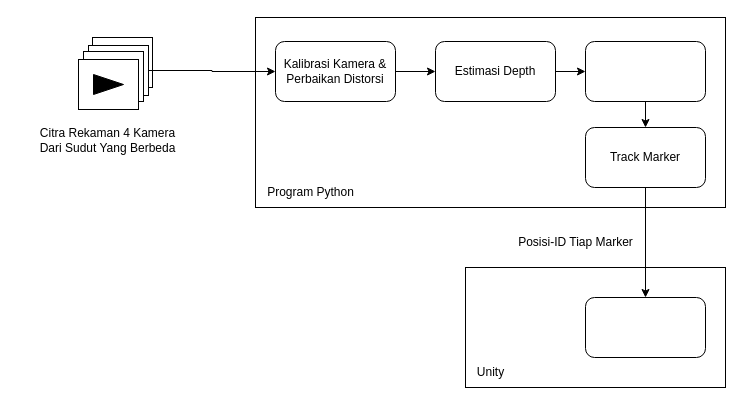
The diagram is 743 pixels wide and 405 high, and some of its shapes have lost their labels. Each missing label, with the centre of its shape:
"Deteksi Marker" belongs at pixel 645 71.
"Update Posisi Keypoint-Keypoint Avatar" belongs at pixel 645 327.
